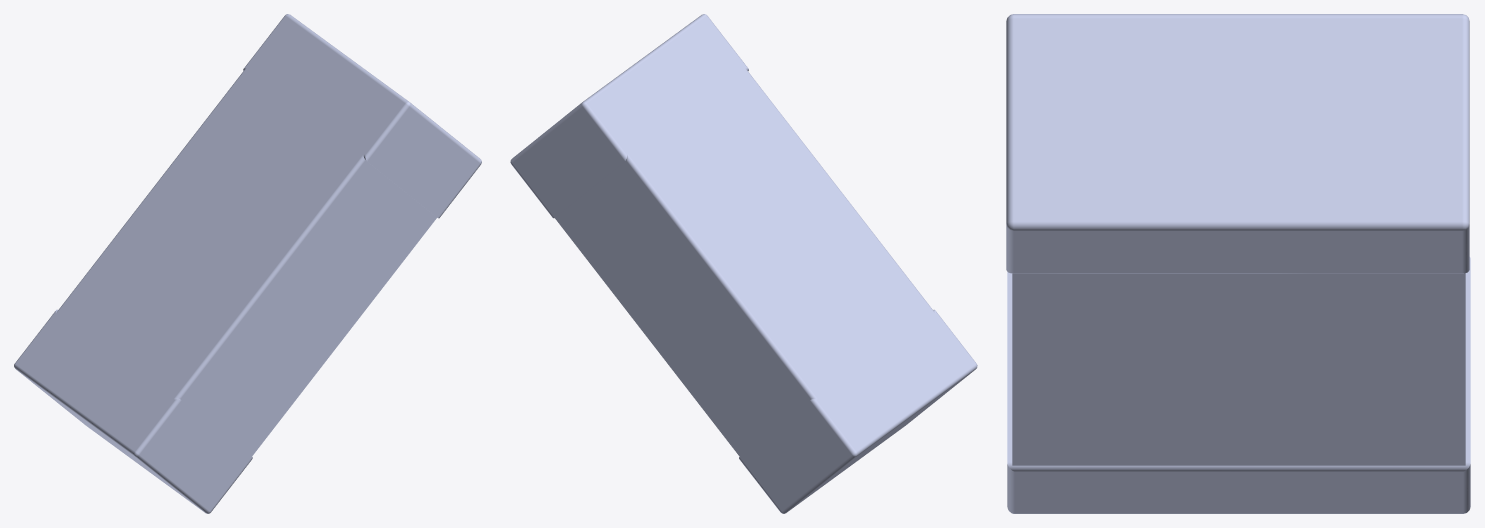
The model's file is body50_visual.obj.
3 views of the same model, side by side, from view 1: azimuth 30°, elevation 25°; view 2: azimuth 150°, elevation 25°; view 3: azimuth 270°, elevation 25° (orthographic). The views are drawn at different scales.
Parts seen in each view (by area): view 1: Body50; view 2: Body50; view 3: Body50.
Part boxes in pixels (x1=…): Body50: x1=14, y1=14, x2=481, y2=513; Body50: x1=510, y1=14, x2=977, y2=513; Body50: x1=1006, y1=14, x2=1470, y2=513.
Size of the model in its own units: 0.1989 by 0.1989 by 0.123.
